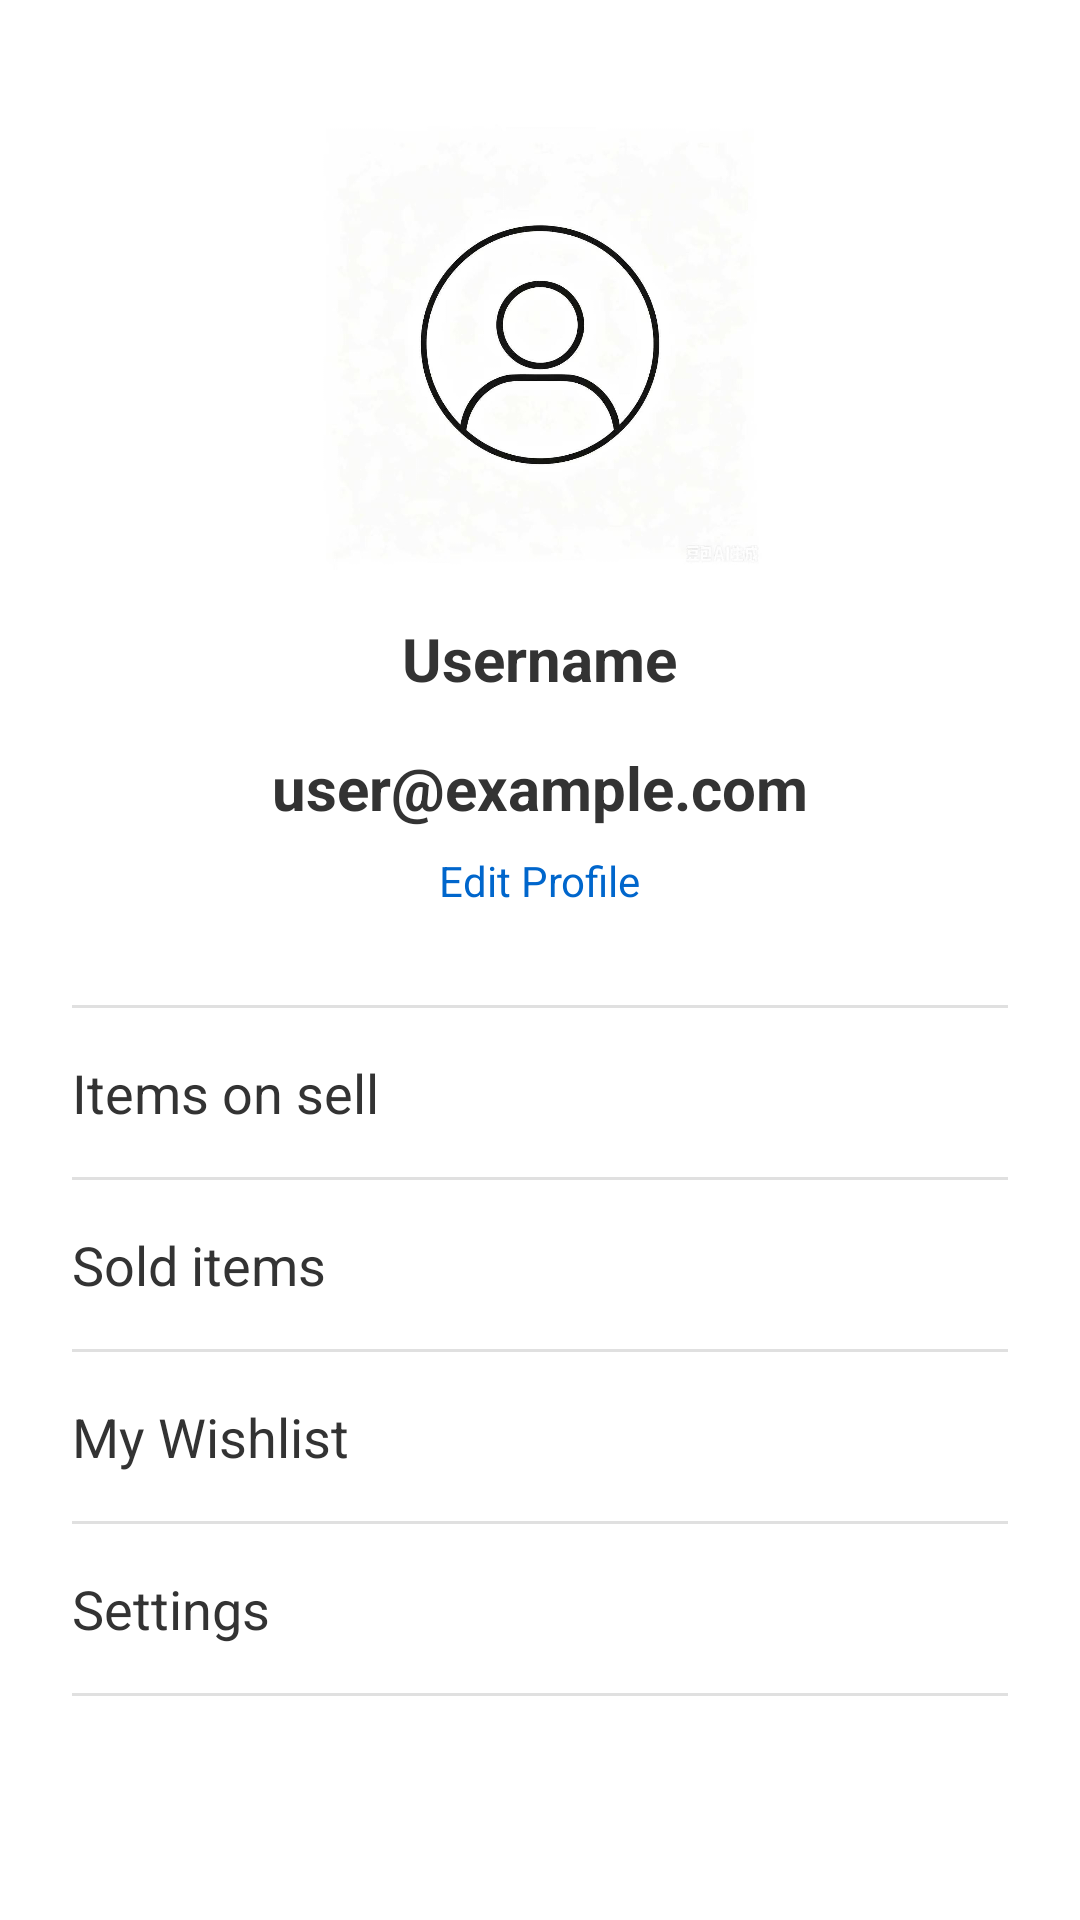

Named icons in this screenshot (1080px x 1920px) and their centers, [x,y]:
User Avatar: [540,344]
